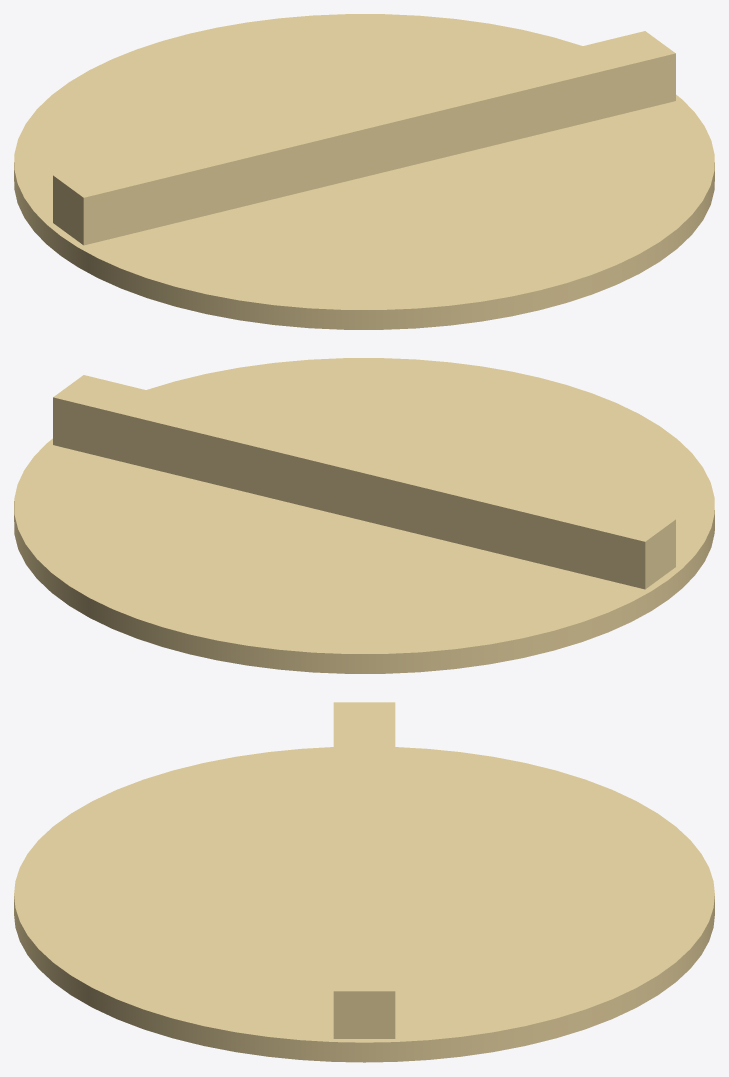
Rendered from 798_otoshibuta.glb.
3 views of the same model, one above another, from view 1: azimuth 30°, elevation 25°; view 2: azimuth 150°, elevation 25°; view 3: azimuth 270°, elevation 25° (orthographic).
Visible parts, largest first — view 1: Body; view 2: Body; view 3: Body.
Part boxes in pixels (x1=…): Body: x1=14, y1=14, x2=714, y2=329; Body: x1=14, y1=358, x2=714, y2=673; Body: x1=14, y1=702, x2=714, y2=1062.
Bounding box in the file's own units: 0.16 × 0.017 × 0.16.
